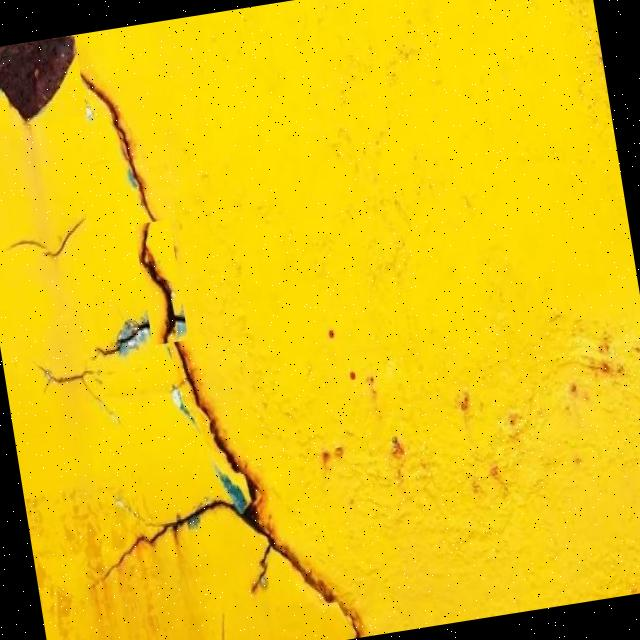Corrosion: (0, 0, 640, 640), (0, 4, 367, 640), (0, 35, 87, 132)
